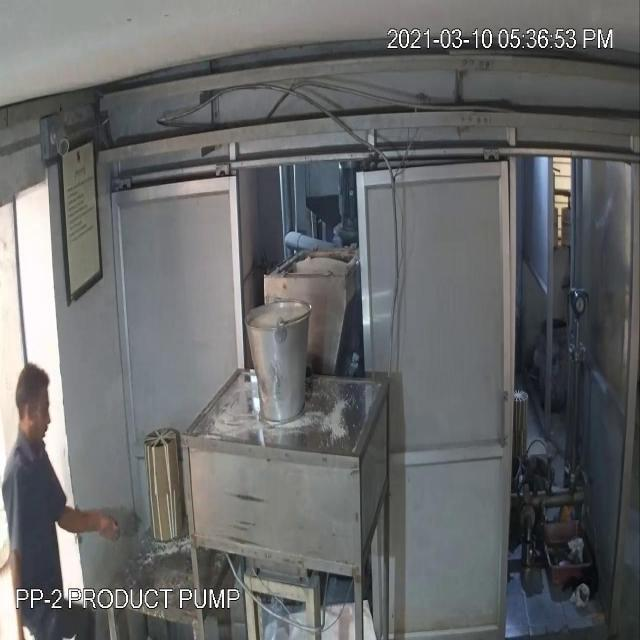No_Gloves: (53, 483, 129, 560)
